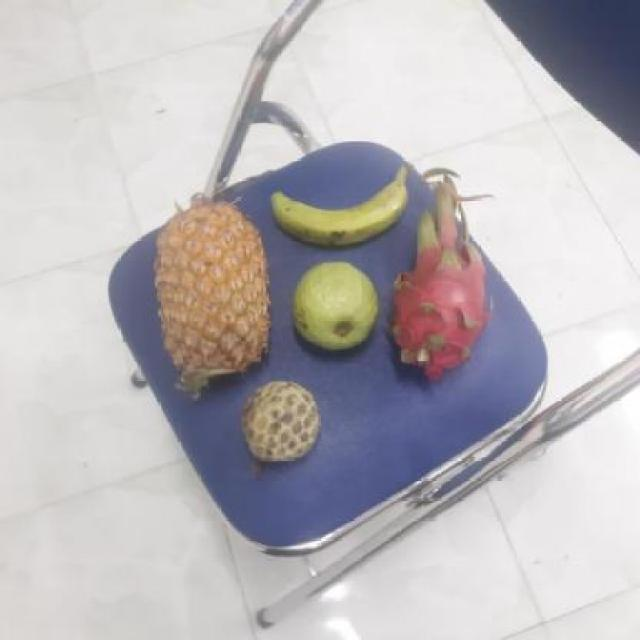banana: (262, 157, 410, 251)
dragon fruit: (381, 221, 490, 368)
guava: (288, 260, 384, 348)
pineapple: (148, 197, 272, 385)
sugar apple: (234, 382, 321, 463)
